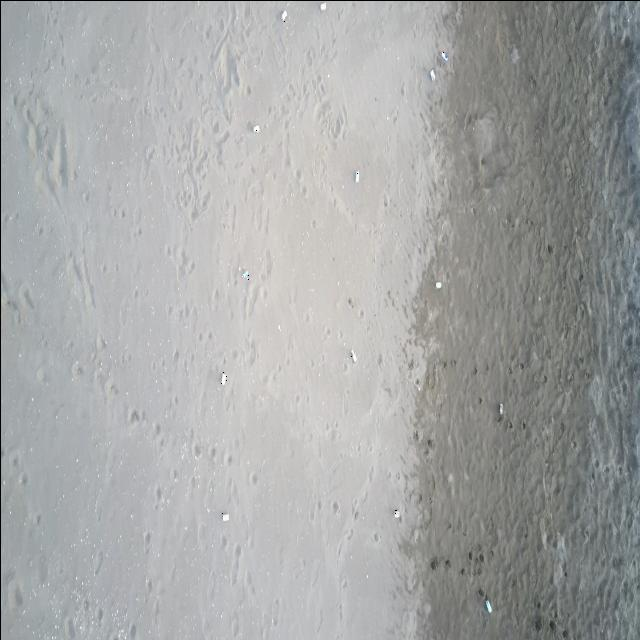Garbage: (510, 47, 519, 63), (484, 597, 491, 612), (440, 49, 447, 62), (280, 9, 287, 22), (220, 372, 227, 384), (428, 68, 435, 80), (353, 169, 359, 181), (497, 403, 503, 415), (350, 350, 355, 363), (241, 271, 248, 280), (252, 124, 260, 131), (221, 512, 228, 520), (320, 2, 326, 11), (393, 508, 399, 517), (435, 280, 442, 287)
